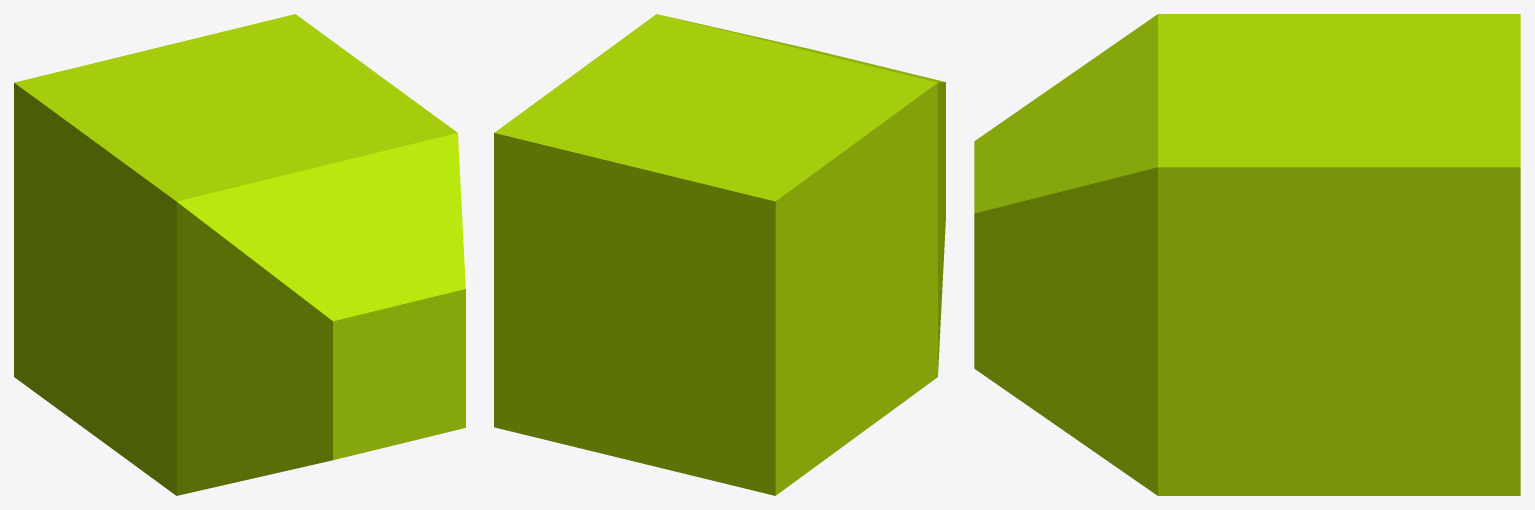
Rendered from ensui.fbx.
The picture shows the model from 3 angles, left to right: view 1: azimuth 30°, elevation 25°; view 2: azimuth 150°, elevation 25°; view 3: azimuth 270°, elevation 25°; orthographic projection. The views are drawn at different scales.
Visible parts, largest first — view 1: pCube1; view 2: pCube1; view 3: pCube1.
Part boxes in pixels (<box>): pCube1: <box>14,14,465,495</box>; pCube1: <box>494,14,945,495</box>; pCube1: <box>974,14,1520,495</box>.
Bounding box in the file's own units: 1 × 1 × 1.51.
